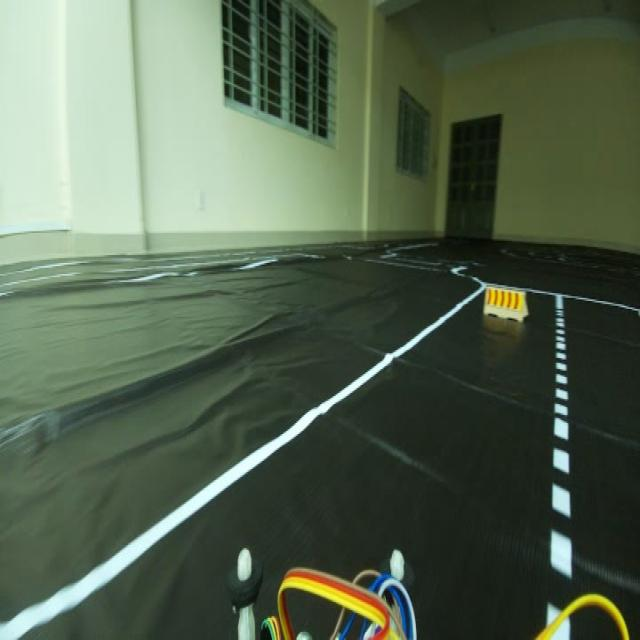roadblock: (479, 278, 527, 337)
